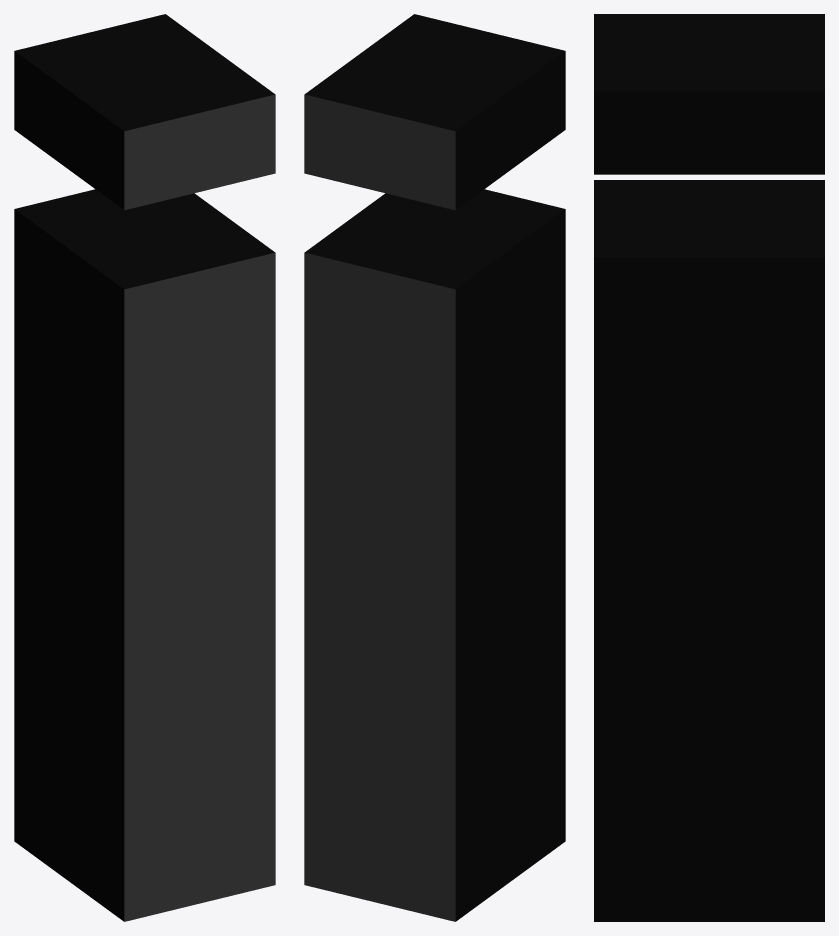
The model's file is I_DeltaBlock_Black.glb.
3 renders of one model, left to right at view 1: azimuth 30°, elevation 25°; view 2: azimuth 150°, elevation 25°; view 3: azimuth 270°, elevation 25°, orthographic. The views are drawn at different scales.
Visible parts, largest first — view 1: i_DeltaBlock_Black; view 2: i_DeltaBlock_Black; view 3: i_DeltaBlock_Black.
Part boxes in pixels (x1=…): i_DeltaBlock_Black: x1=14, y1=14, x2=275, y2=921; i_DeltaBlock_Black: x1=304, y1=14, x2=565, y2=921; i_DeltaBlock_Black: x1=594, y1=14, x2=824, y2=921.
Size of what is drawn, in the model's own units: 0.0357 by 0.1786 by 0.045.
2 materials, 2 textured.
